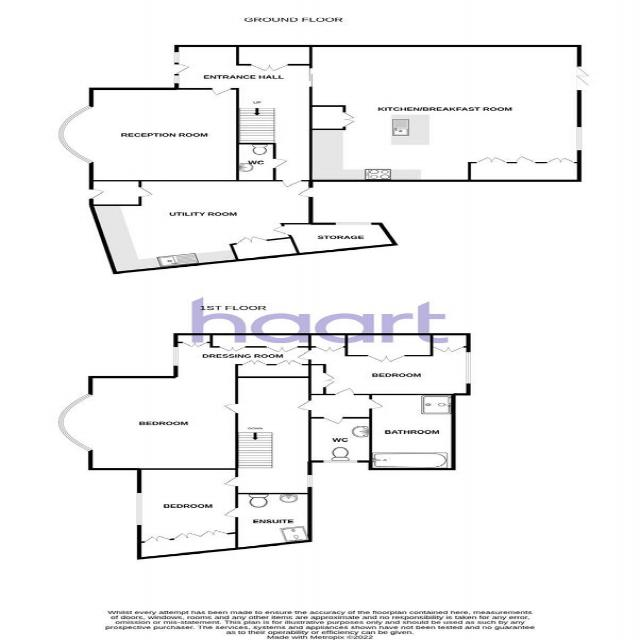DOOR: (271, 225, 293, 236), (135, 186, 155, 198), (87, 188, 107, 199), (296, 187, 315, 198), (272, 158, 290, 169), (281, 179, 303, 188), (515, 155, 537, 164), (173, 64, 191, 74)
ROOM: (308, 44, 594, 182), (88, 179, 314, 274), (56, 87, 240, 182)
WINDOW: (54, 390, 101, 454), (56, 104, 96, 164), (132, 489, 148, 526), (575, 66, 591, 91), (170, 344, 182, 367), (575, 126, 583, 151), (210, 87, 232, 96), (334, 222, 373, 225), (173, 51, 181, 63), (173, 75, 180, 84)
